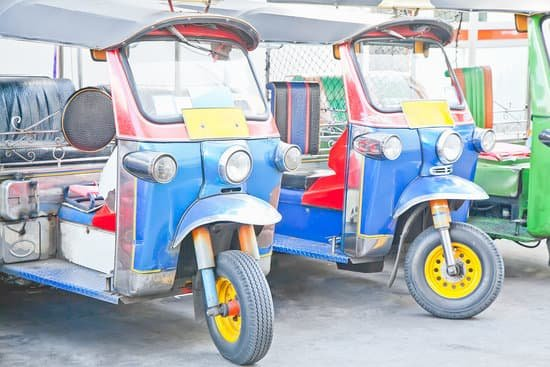threewheel: (1, 1, 301, 367), (228, 2, 505, 320)
